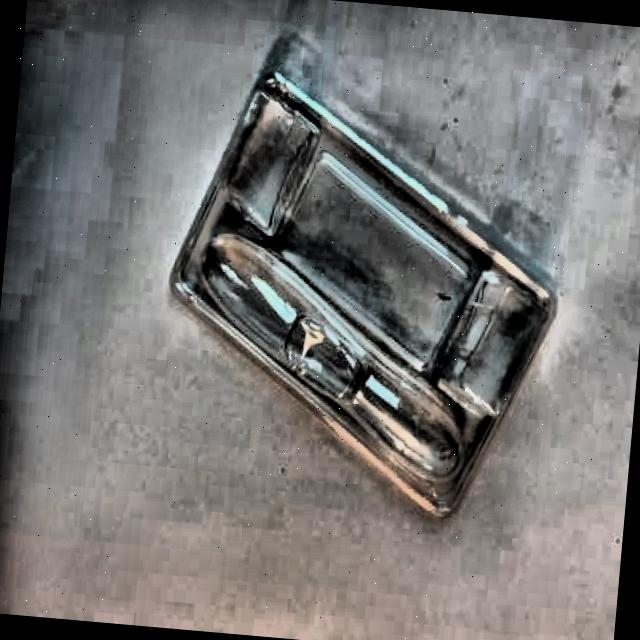plastic: (137, 65, 560, 519)
